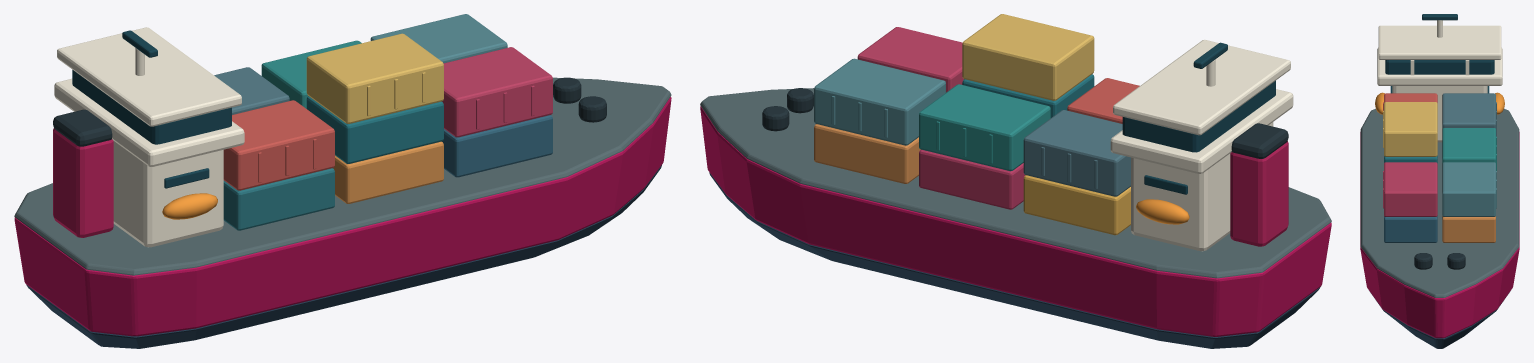
The model's file is one-apus.glb.
3 views of the same model, side by side, from view 1: azimuth 30°, elevation 25°; view 2: azimuth 150°, elevation 25°; view 3: azimuth 270°, elevation 25° (orthographic). The views are drawn at different scales.
Visible parts, largest first — view 1: one-apus; view 2: one-apus; view 3: one-apus.
Boxes of the visible parts, x1,y1,x2,y2 form: one-apus: (14,14,671,348); one-apus: (700,14,1331,348); one-apus: (1360,14,1519,348).
Bounding box in the file's own units: 3.35 × 1.42 × 1.16.
